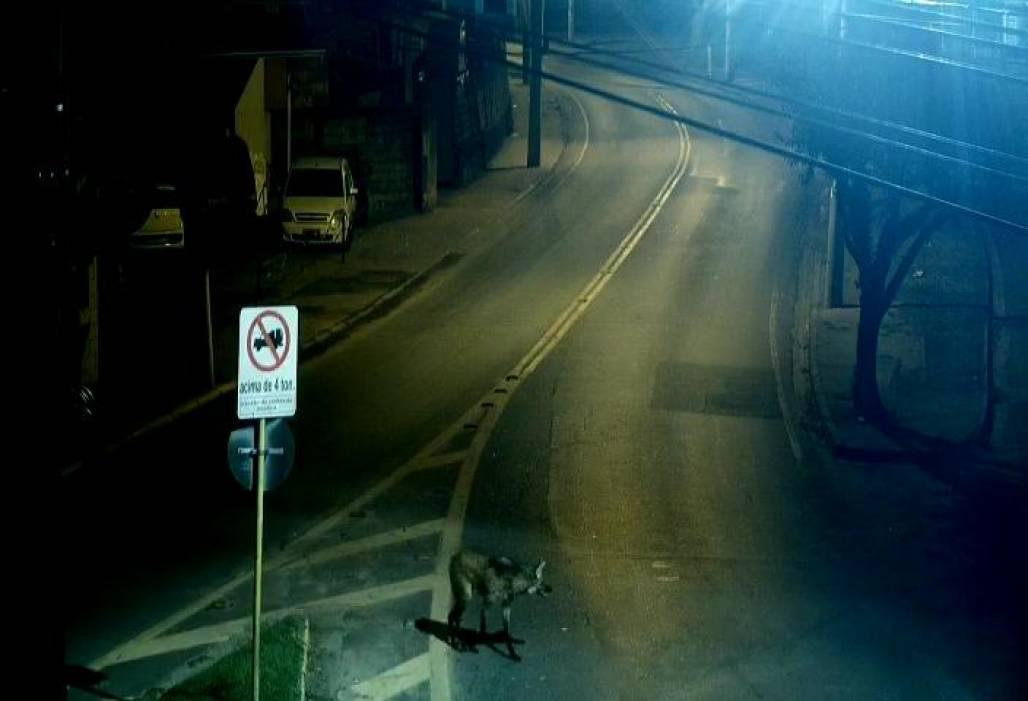LoboGuara: (436, 538, 573, 669)
